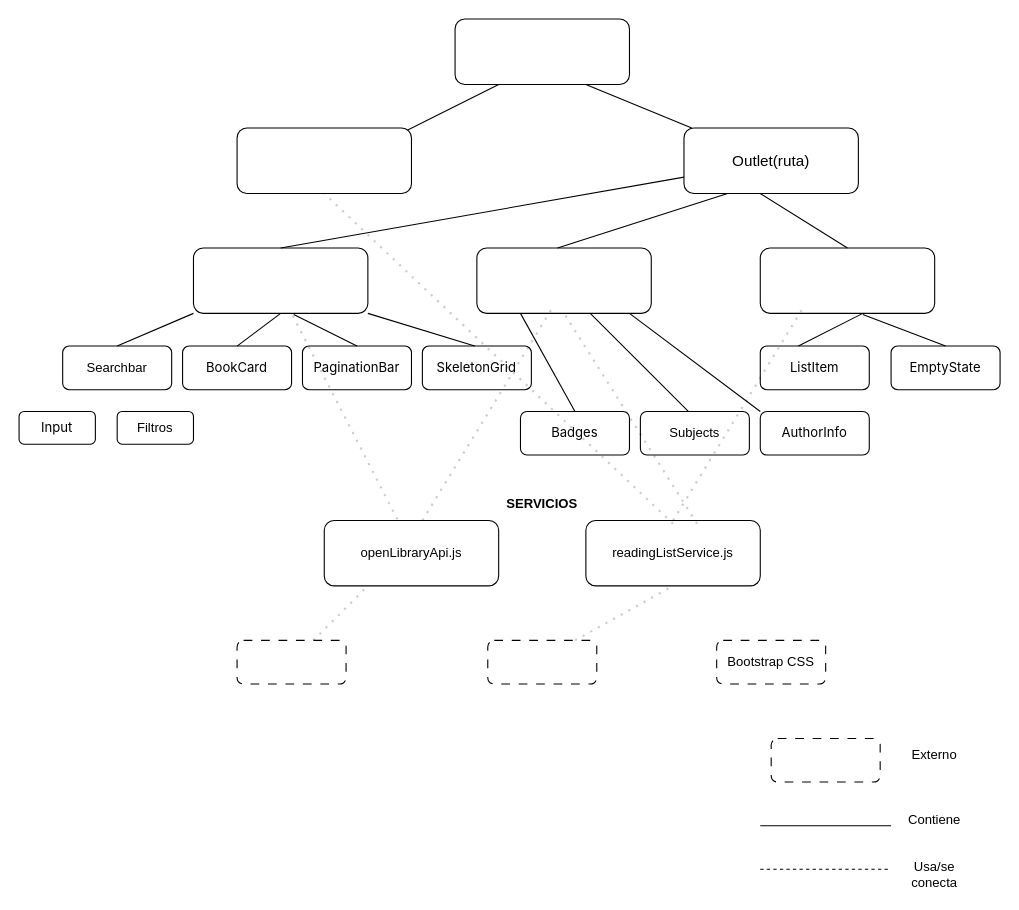
The diagram is 1019 pixels wide and 910 high, and some of its shapes have lost their labels. Here are the shapes that lost their labels. From the top down, the centre of each, then its label:
At (541,51): "APP".
At (323,160): "NavigationBar".
At (280,280): "HomePage".
At (563,280): "BookDetailPage".
At (847,280): "ReadingListPage".
At (291,661): "openLibraryAPI".
At (542,661): "LocalStorage".
